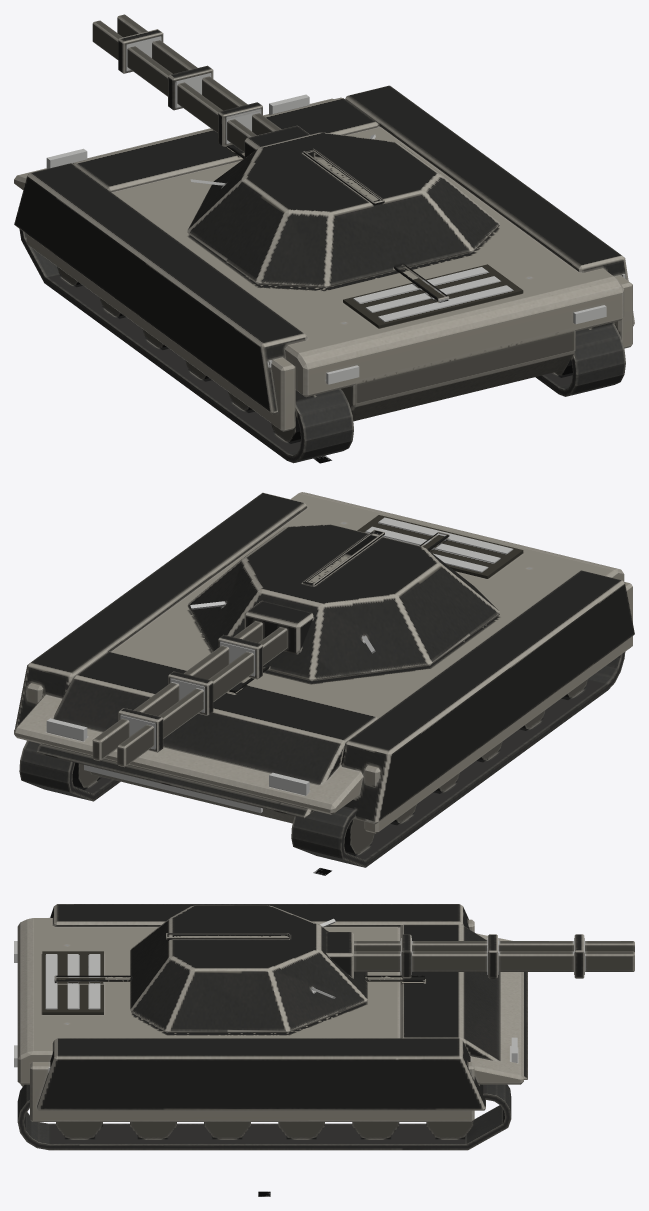
The model's file is ord_whisper.fbx.
3 renders of one model, top to bottom at view 1: azimuth 30°, elevation 25°; view 2: azimuth 150°, elevation 25°; view 3: azimuth 270°, elevation 25°, orthographic. The views are drawn at different scales.
Visible parts, largest first — view 1: base_bar, turret_bar, trackL_bar, barrel_bar, base_glow_running_bar, trackR_bar, base_glow_head_bar, barrel_glow_weapon_bar; view 2: base_bar, turret_bar, barrel_bar, trackL_bar, base_glow_running_bar, trackR_bar, base_glow_head_bar, barrel_glow_weapon_bar; view 3: base_bar, turret_bar, trackR_bar, barrel_bar, base_glow_running_bar.
Boxes of the visible parts, box(x1,y1,x2,y2) form: base_bar: box(14, 85, 634, 431); turret_bar: box(187, 132, 499, 287); trackL_bar: box(19, 229, 353, 463); barrel_bar: box(92, 14, 314, 158); base_glow_running_bar: box(268, 267, 625, 384); trackR_bar: box(535, 324, 625, 396); base_glow_head_bar: box(46, 94, 309, 168); barrel_glow_weapon_bar: box(126, 36, 260, 143); base_bar: box(14, 492, 634, 833); turret_bar: box(187, 524, 499, 681); barrel_bar: box(92, 600, 313, 767); trackL_bar: box(291, 652, 625, 867); base_glow_running_bar: box(84, 517, 513, 813); trackR_bar: box(19, 740, 120, 801); base_glow_head_bar: box(46, 718, 309, 795); barrel_glow_weapon_bar: box(120, 642, 254, 749); base_bar: box(17, 904, 527, 1121); turret_bar: box(130, 905, 367, 1032); trackR_bar: box(17, 1084, 511, 1150); barrel_bar: box(326, 932, 634, 978); base_glow_running_bar: box(14, 917, 100, 1072).
Bounding box in the file's own units: 590 × 463 × 1006.
2 materials, 2 textured.
